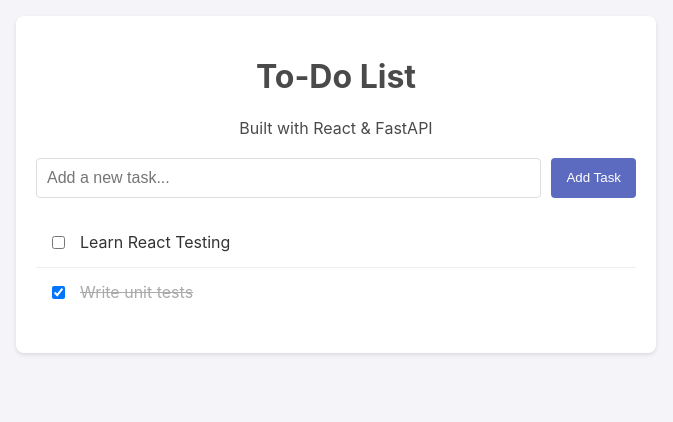
Test: App › allows a user to add a new task
Check: the text "Learn React Testing" is shown, box [80,232,230,252]
Type "A brand new task" into the field with placeholder "Add a new task..." at (289, 178), box [36,158,541,198]
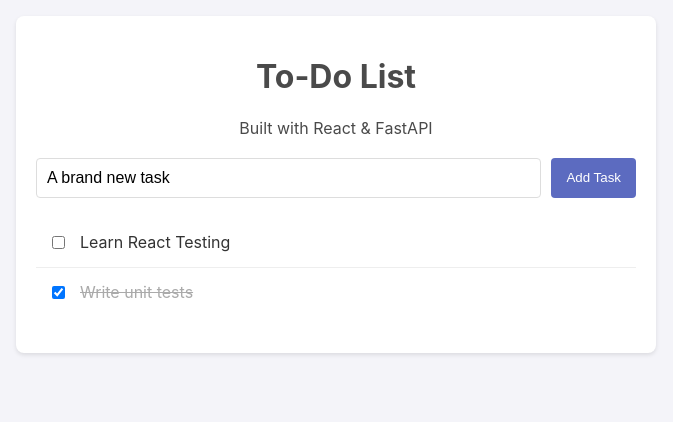
Click the button "Add Task" at (594, 178), box [551,158,636,198]
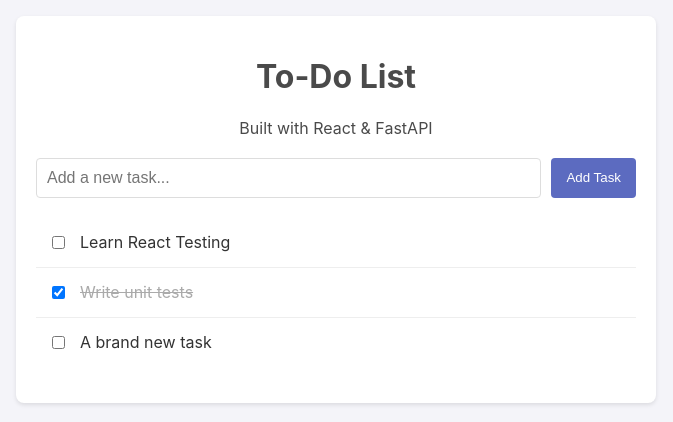
Check: the text "A brand new task" is shown, box [80,332,212,352]
